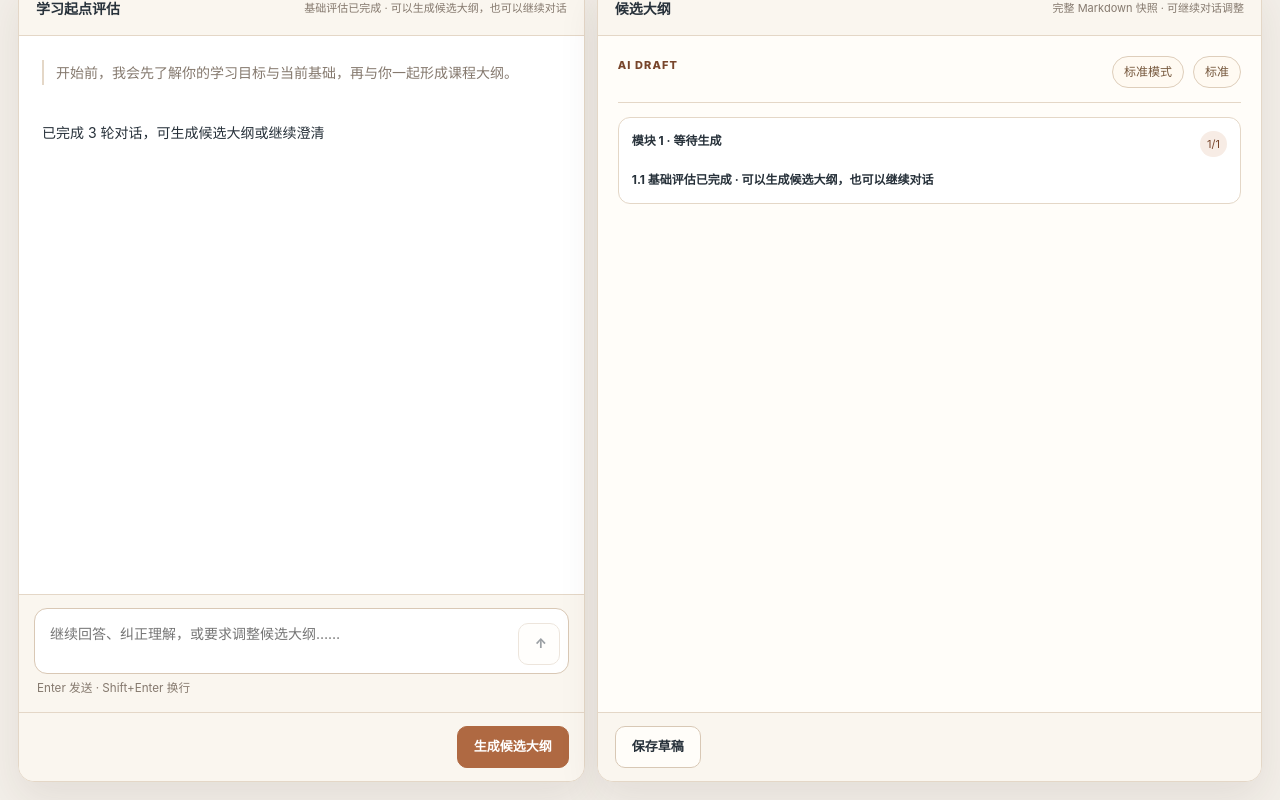
Scenario: CourseAuthoring page › cancels a pending generation and reloads the authoritative retry state
(page scrolled)
Step 1. Click the button "生成候选大纲" → point(513, 746), box [457,726,569,768]
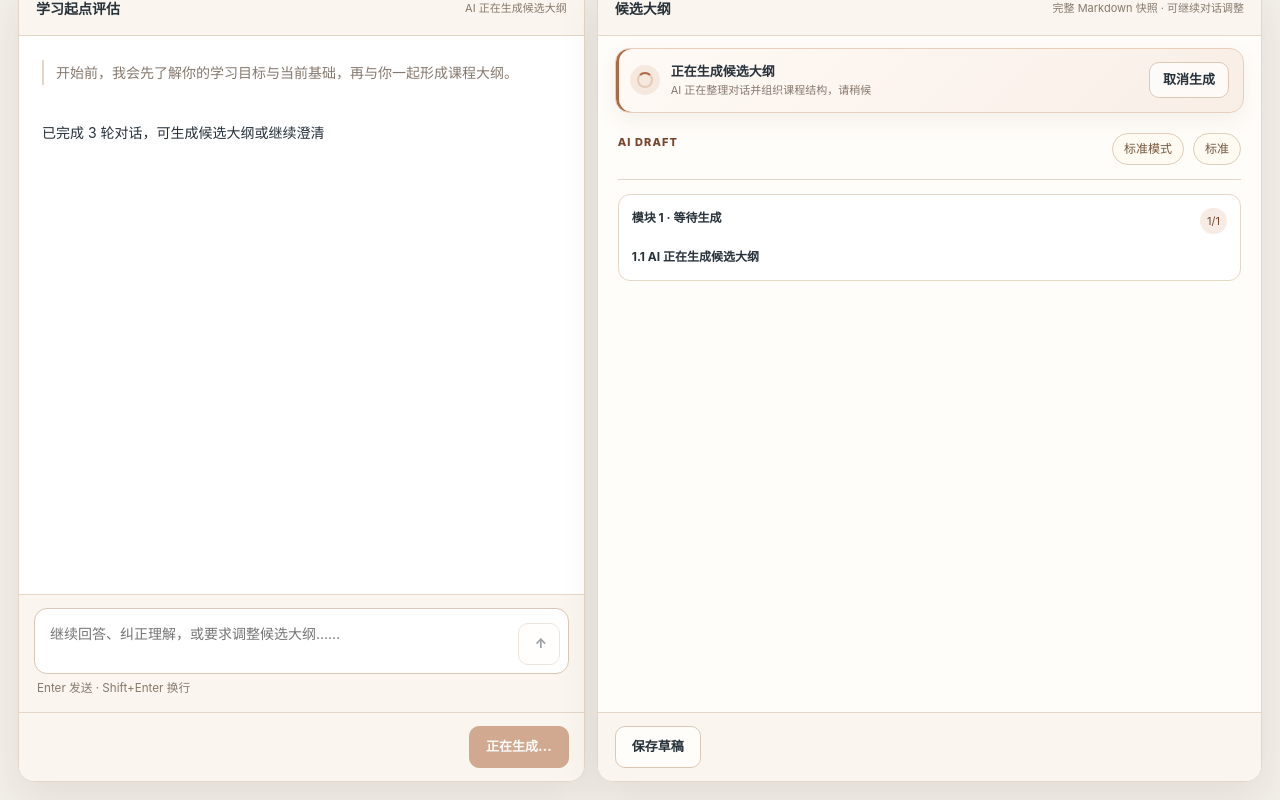
Step 2. Click the button "取消生成" → point(1189, 80), box [1149,62,1229,98]
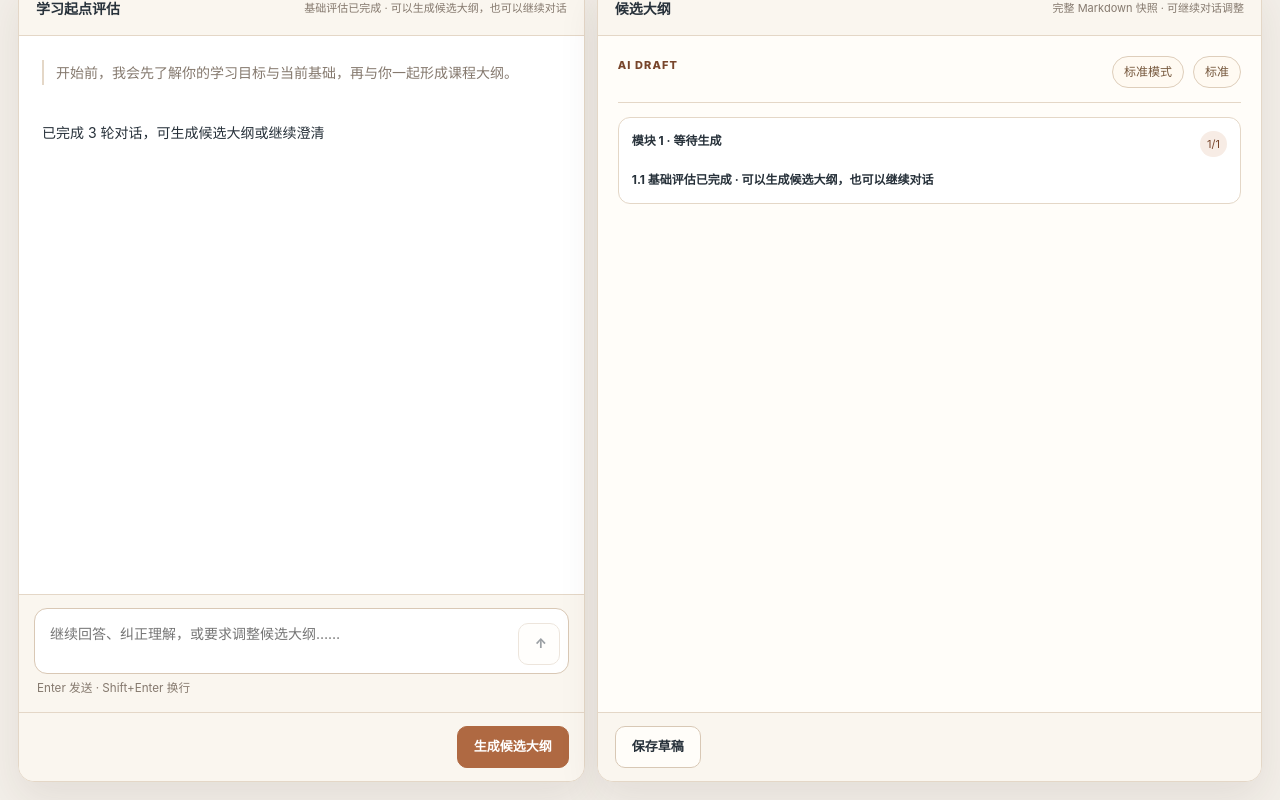
Check: the button "生成候选大纲" is enabled, box [457,726,569,768]
